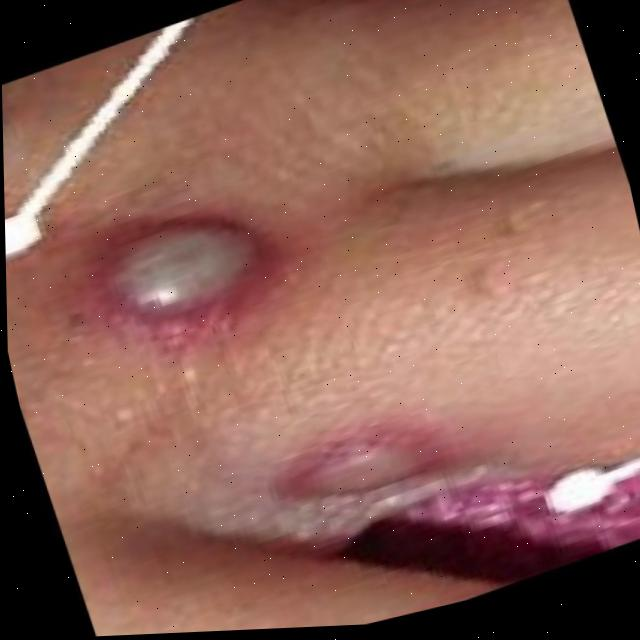Eczema: (110, 203, 267, 340), (297, 428, 399, 499)
